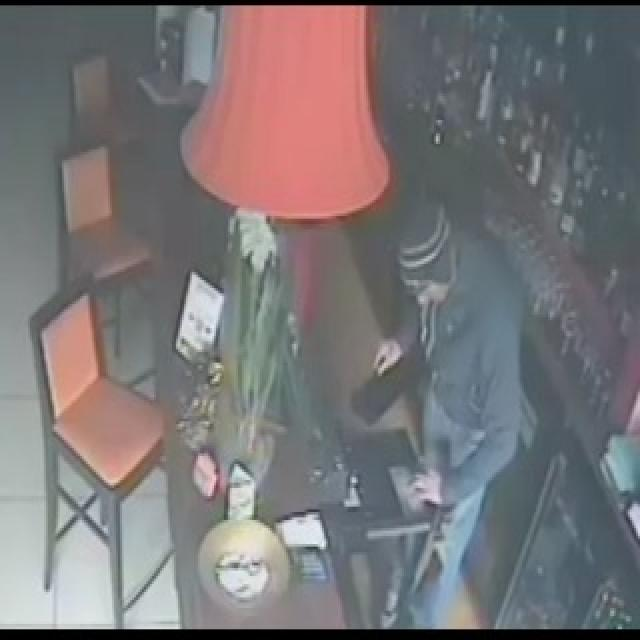thief: (381, 187, 514, 485)
